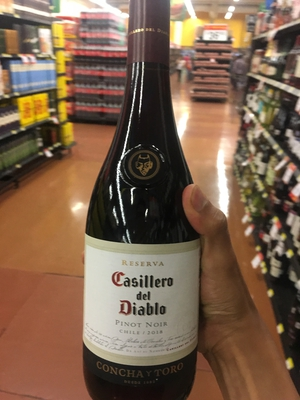casillero del diablo pinot noir: (79, 8, 212, 400)
